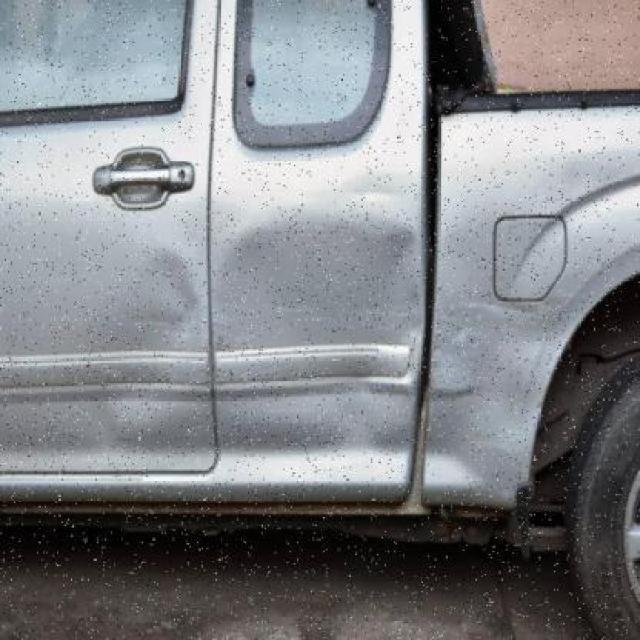doorouter-dent: (3, 102, 219, 483), (214, 126, 427, 489)
quaterpanel-dent: (426, 111, 623, 502)
